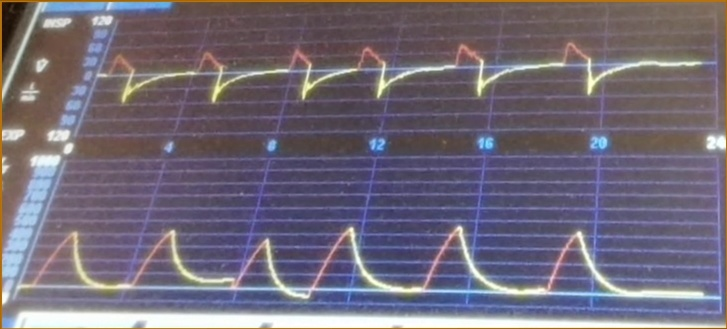Accumulation Flow: (111, 35, 657, 130)
Volume: (45, 217, 650, 309)
